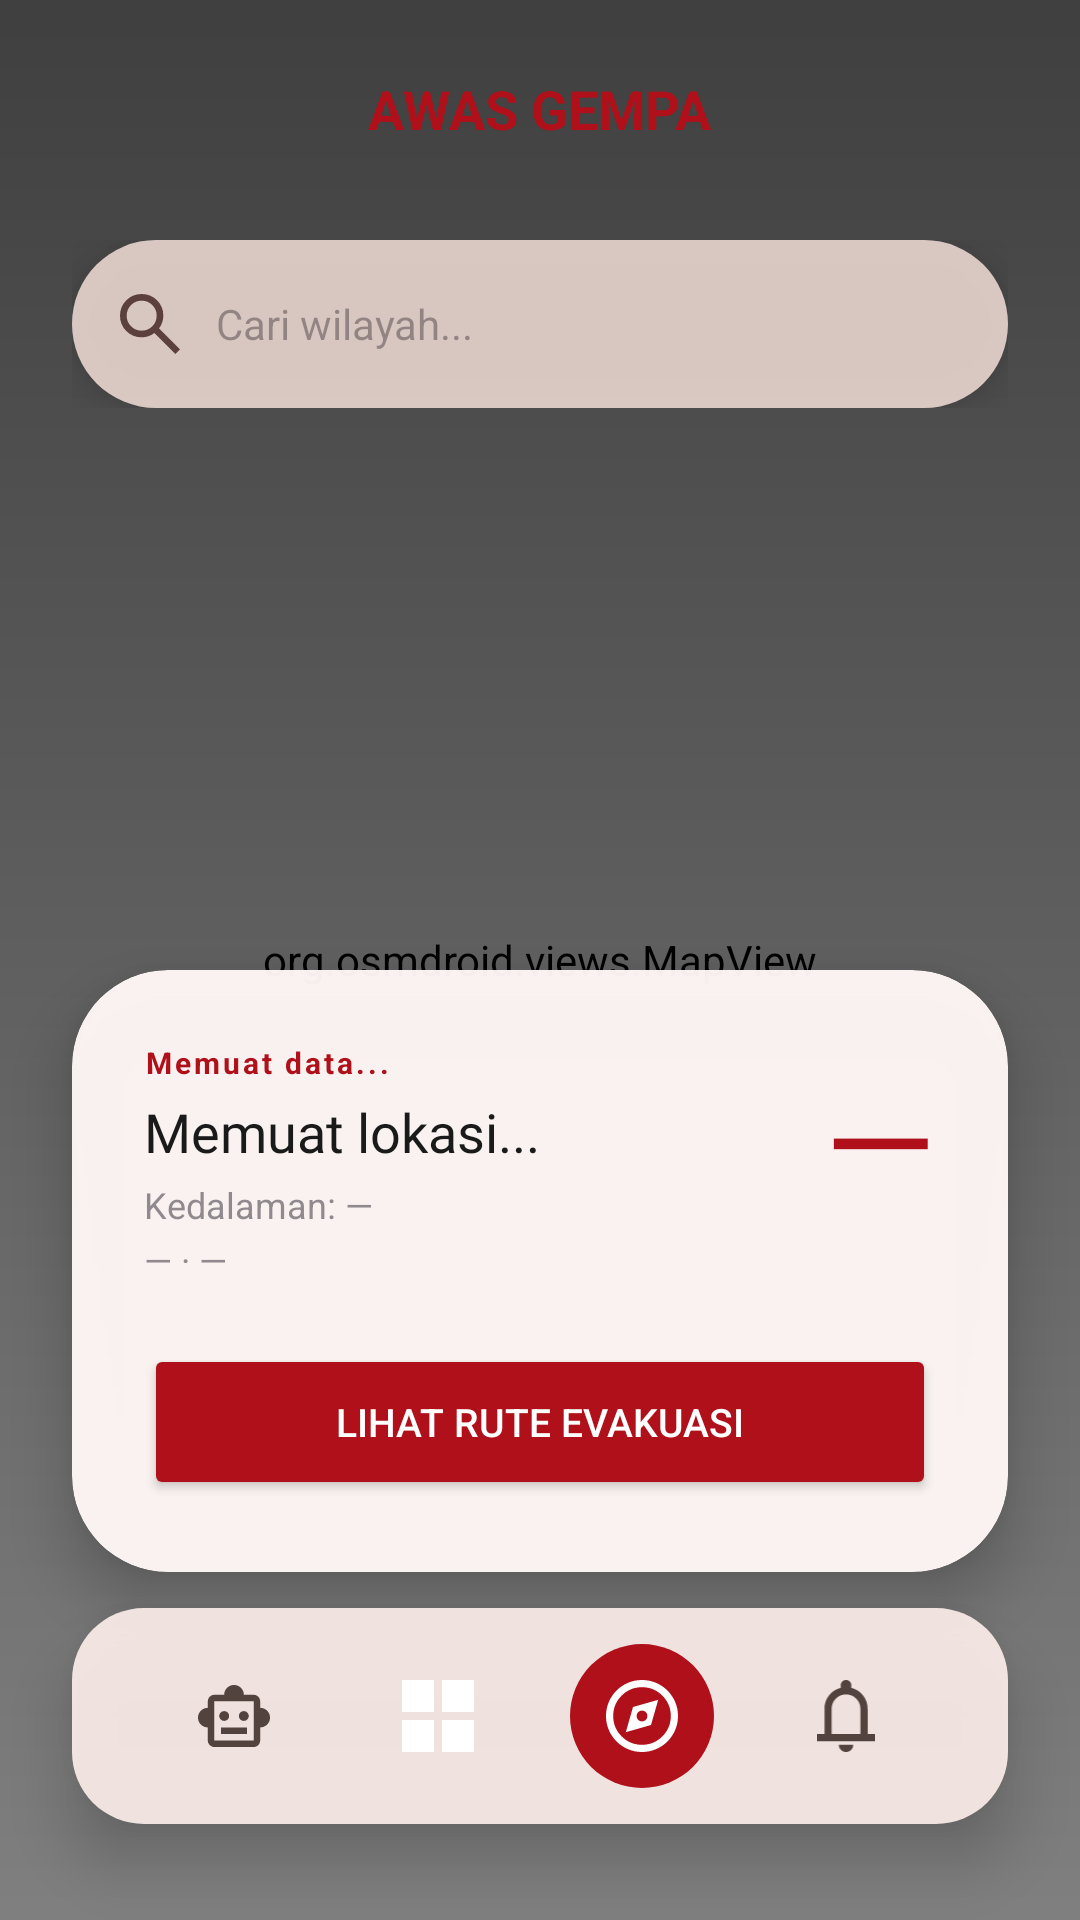

Icons on this 1080*1920 Android screen, each with the point to tap as (x,y):
explore: (642,1716)
grid: (438,1716)
notifications: (846,1716)
robot: (234,1716)
search: (150,324)
